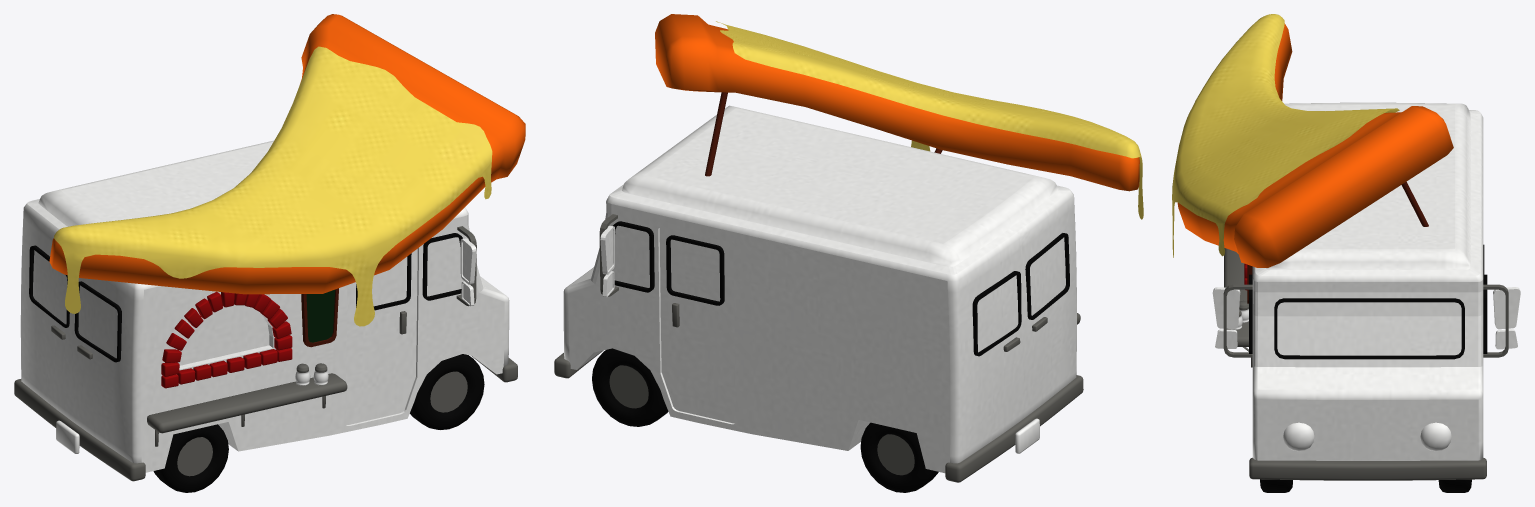
The model's file is puesto2.obj.
3 views of the same model, side by side, from view 1: azimuth 30°, elevation 25°; view 2: azimuth 150°, elevation 25°; view 3: azimuth 270°, elevation 25° (orthographic). The views are drawn at different scales.
Visible parts, largest first — view 1: Truck_Truck_mat, Truck_cheese_mat.001, Truck_pizza_crust, Truck_metal.001, Truck_rubber.001, Truck_brick.001, Truck_Material.002, Truck_chalboard.001, Truck_wood.001; view 2: Truck_Truck_mat, Truck_pizza_crust, Truck_cheese_mat.001, Truck_rubber.001, Truck_metal.001, Truck_Material.002, Truck_wood.001; view 3: Truck_Truck_mat, Truck_cheese_mat.001, Truck_pizza_crust, Truck_metal.001, Truck_Material.002, Truck_rubber.001, Truck_wood.001.
Part boxes in pixels (x1,y1,x2,y2): Truck_Truck_mat: (20, 140, 509, 472); Truck_cheese_mat.001: (54, 46, 492, 326); Truck_pizza_crust: (49, 14, 525, 294); Truck_metal.001: (14, 226, 517, 481); Truck_rubber.001: (29, 233, 484, 492); Truck_brick.001: (161, 292, 292, 388); Truck_Material.002: (56, 238, 476, 453); Truck_chalboard.001: (306, 289, 335, 342); Truck_wood.001: (301, 288, 338, 347); Truck_Truck_mat: (563, 105, 1076, 473); Truck_pizza_crust: (655, 14, 1139, 191); Truck_cheese_mat.001: (716, 21, 1143, 219); Truck_rubber.001: (592, 221, 1069, 492); Truck_metal.001: (554, 214, 1083, 482); Truck_Material.002: (600, 225, 1039, 453); Truck_wood.001: (705, 92, 942, 176); Truck_Truck_mat: (1252, 102, 1483, 460); Truck_cheese_mat.001: (1172, 14, 1399, 257); Truck_pizza_crust: (1177, 23, 1453, 267); Truck_metal.001: (1223, 248, 1508, 480); Truck_Material.002: (1212, 287, 1520, 451); Truck_rubber.001: (1249, 244, 1487, 492); Truck_wood.001: (1247, 181, 1428, 303).
Size of the model in its own units: 3.88 by 2.91 by 2.53.
